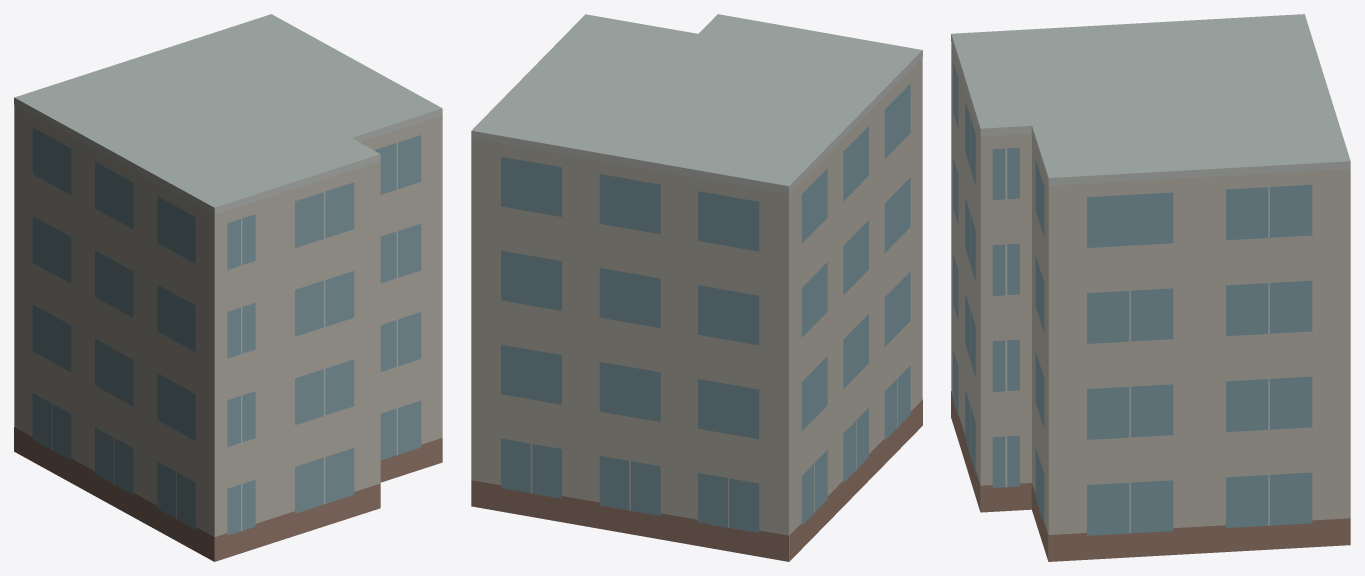
The model's file is residential-2b9f7d78-9453-4bc2-9d98-aabe05d40f6c.glb.
3 views of the same model, side by side, from view 1: azimuth 30°, elevation 25°; view 2: azimuth 150°, elevation 25°; view 3: azimuth 270°, elevation 25° (orthographic). The views are drawn at different scales.
Parts seen in each view (by area): view 1: residential-2b9f7d78-9453-4bc2-9d98-aabe05d40f6c.tmp; view 2: residential-2b9f7d78-9453-4bc2-9d98-aabe05d40f6c.tmp; view 3: residential-2b9f7d78-9453-4bc2-9d98-aabe05d40f6c.tmp.
Part boxes in pixels (bbox=[...]): residential-2b9f7d78-9453-4bc2-9d98-aabe05d40f6c.tmp: bbox=[14, 14, 442, 561]; residential-2b9f7d78-9453-4bc2-9d98-aabe05d40f6c.tmp: bbox=[471, 14, 922, 561]; residential-2b9f7d78-9453-4bc2-9d98-aabe05d40f6c.tmp: bbox=[951, 14, 1350, 561].
Size of the model in its own units: 11.2 by 12.2 by 11.52.
